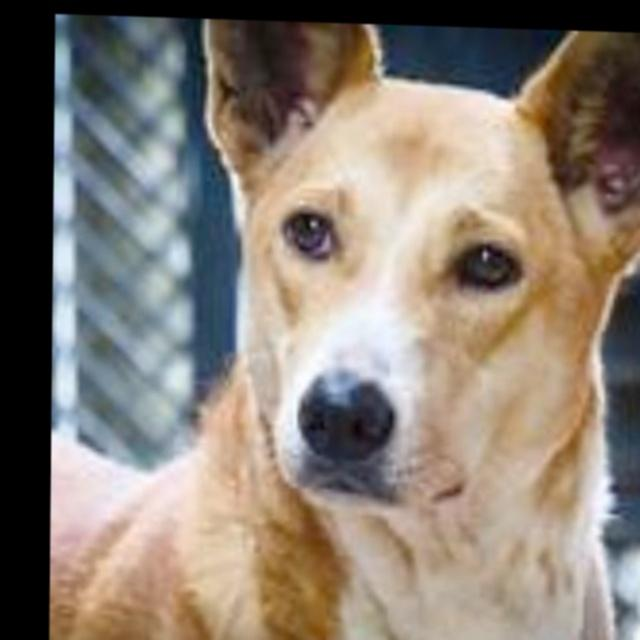dog: (75, 15, 640, 640)
